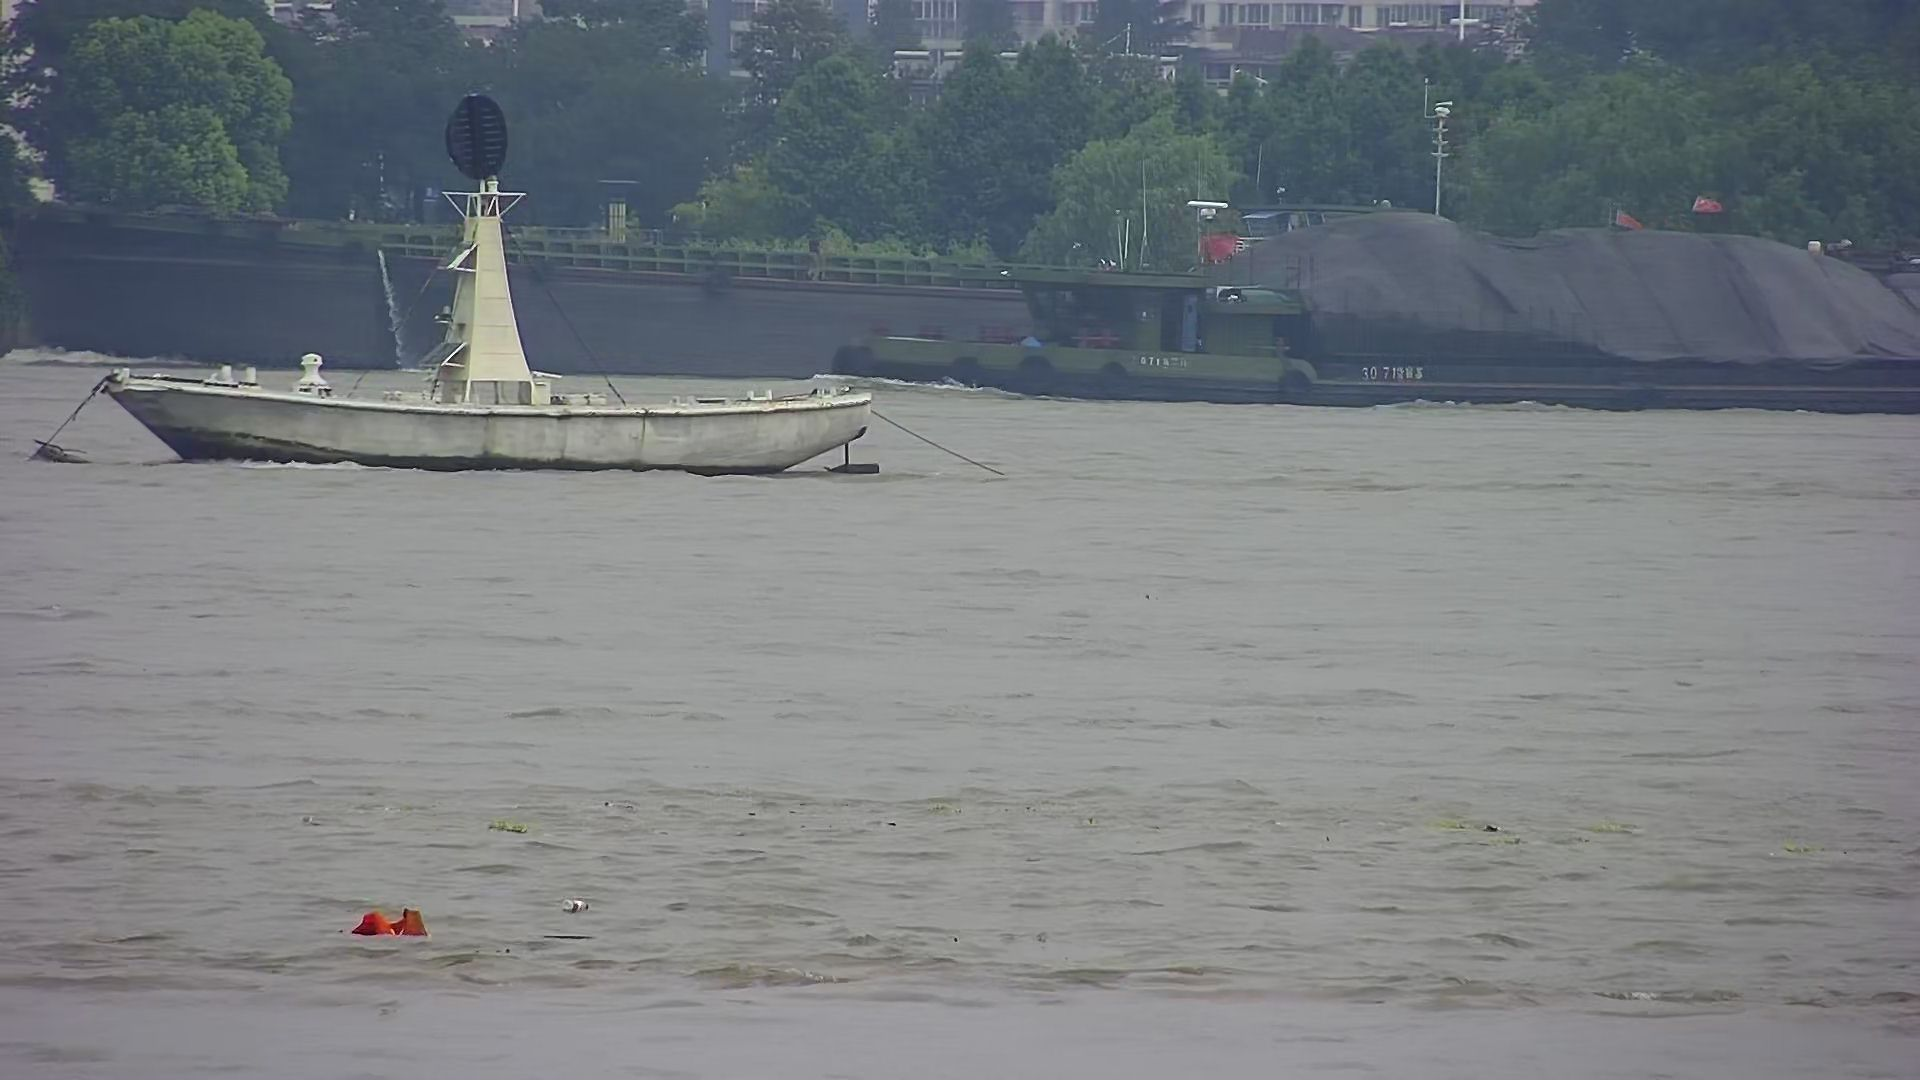boat: (98, 84, 889, 479)
ship: (844, 270, 1908, 425)
